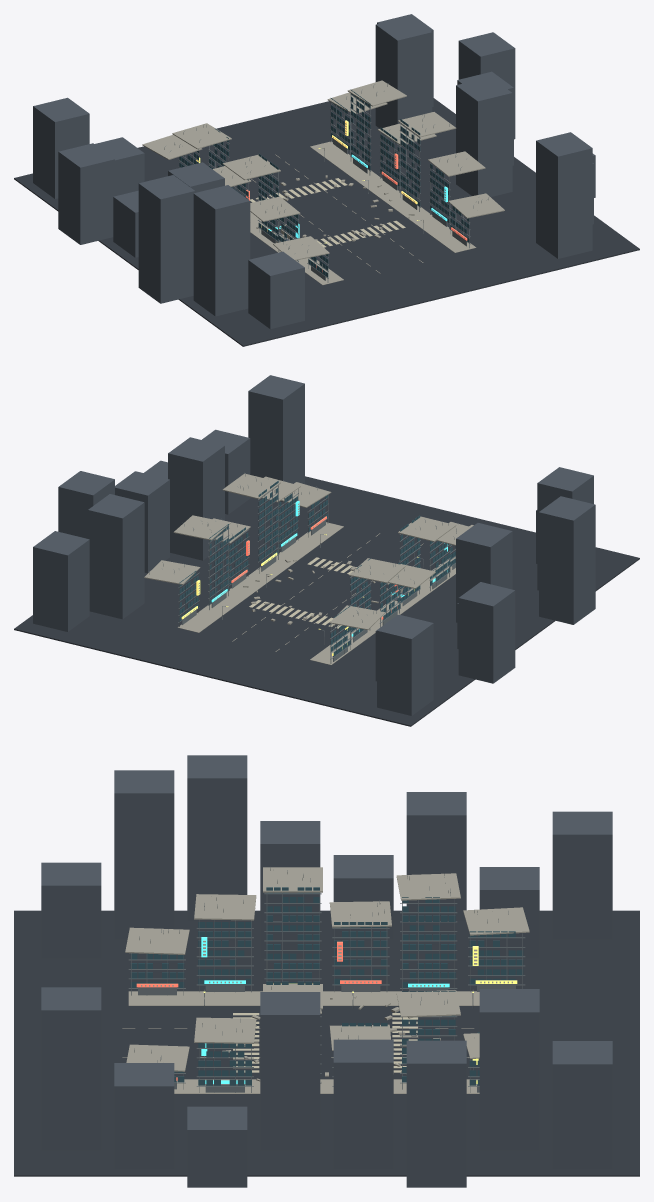
The model's file is shibuya-clash.glb.
3 views of the same model, one above another, from view 1: azimuth 30°, elevation 25°; view 2: azimuth 150°, elevation 25°; view 3: azimuth 270°, elevation 25° (orthographic). The views are drawn at different scales.
Visible parts, largest first — view 1: Charcoal concrete.001, shibuya_asphalt, Warm limestone.002, Smoked glass.002, Oxidized steel, Worn road paint; view 2: Charcoal concrete.001, shibuya_asphalt, Warm limestone.002, Smoked glass.002, Oxidized steel, Worn road paint; view 3: Charcoal concrete.001, shibuya_asphalt, Warm limestone.002, Smoked glass.002, Oxidized steel, Worn road paint, Cyan signage.
Part boxes in pixels (<box>): Charcoal concrete.001: <box>33,14,595,329</box>; shibuya_asphalt: <box>14,98,639,346</box>; Warm limestone.002: <box>142,80,504,285</box>; Smoked glass.002: <box>179,89,469,277</box>; Oxidized steel: <box>164,83,488,282</box>; Worn road paint: <box>250,154,423,273</box>; Charcoal concrete.001: <box>33,375,595,715</box>; shibuya_asphalt: <box>14,476,639,726</box>; Warm limestone.002: <box>144,473,473,664</box>; Smoked glass.002: <box>179,480,455,656</box>; Oxidized steel: <box>149,473,463,663</box>; Worn road paint: <box>232,533,423,651</box>; Charcoal concrete.001: <box>41,755,612,1187</box>; shibuya_asphalt: <box>14,910,639,1176</box>; Warm limestone.002: <box>125,867,529,1093</box>; Smoked glass.002: <box>130,887,523,1085</box>; Oxidized steel: <box>128,867,525,1092</box>; Worn road paint: <box>122,1013,473,1072</box>; Cyan signage: <box>201,937,449,1083</box>.
Size of what is drawn, in the model's own units: 263 by 62.62 by 240.
